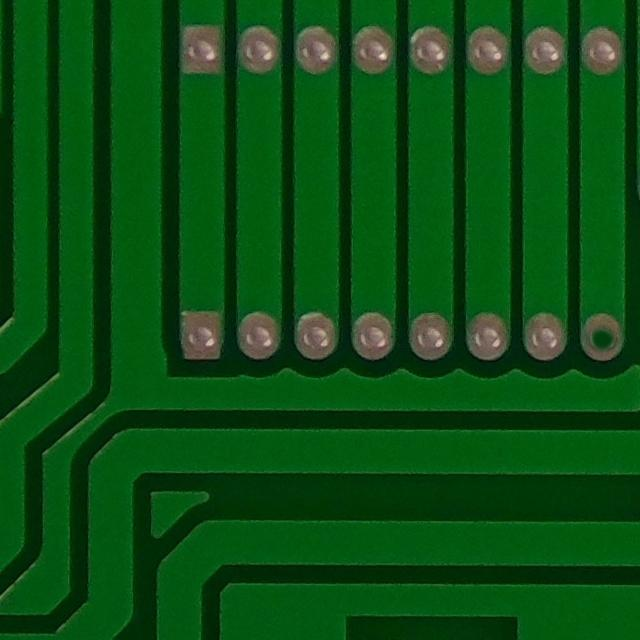missing_hole: (581, 304, 633, 368)
